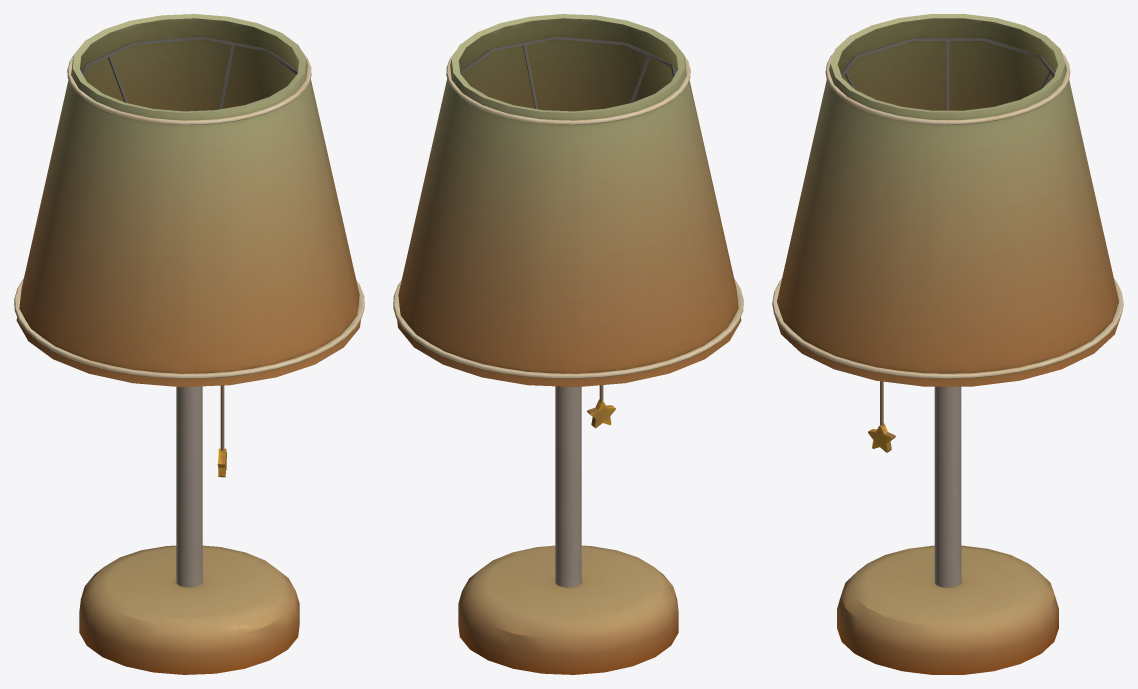
The model's file is Bedroom1_lampside_01.glb.
The picture shows the model from 3 angles, left to right: view 1: azimuth 30°, elevation 25°; view 2: azimuth 150°, elevation 25°; view 3: azimuth 270°, elevation 25°; orthographic projection.
Visible parts, largest first — view 1: Lamp (×5); view 2: Lamp (×5); view 3: Lamp (×5).
Boxes of the visible parts, x1=… form: Lamp (×5): x1=14, y1=14, x2=364, y2=674; Lamp (×5): x1=393, y1=14, x2=743, y2=674; Lamp (×5): x1=772, y1=14, x2=1123, y2=674.
Bounding box in the file's own units: 70.03 × 124 × 70.03.
Materials: 1 (1 with a texture image).
